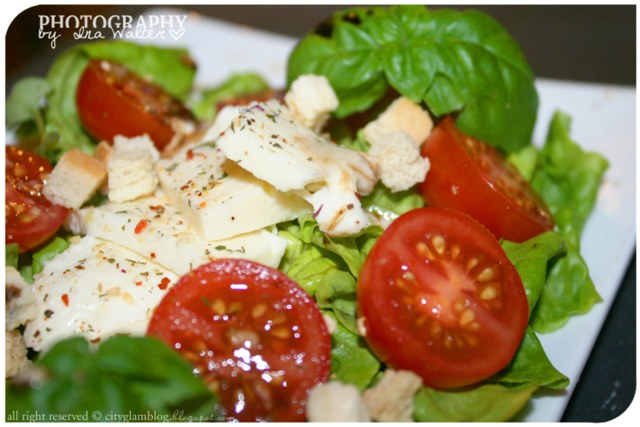tomato: (359, 206, 531, 393), (144, 260, 330, 421), (418, 116, 555, 246), (74, 60, 191, 150), (4, 147, 68, 253)
